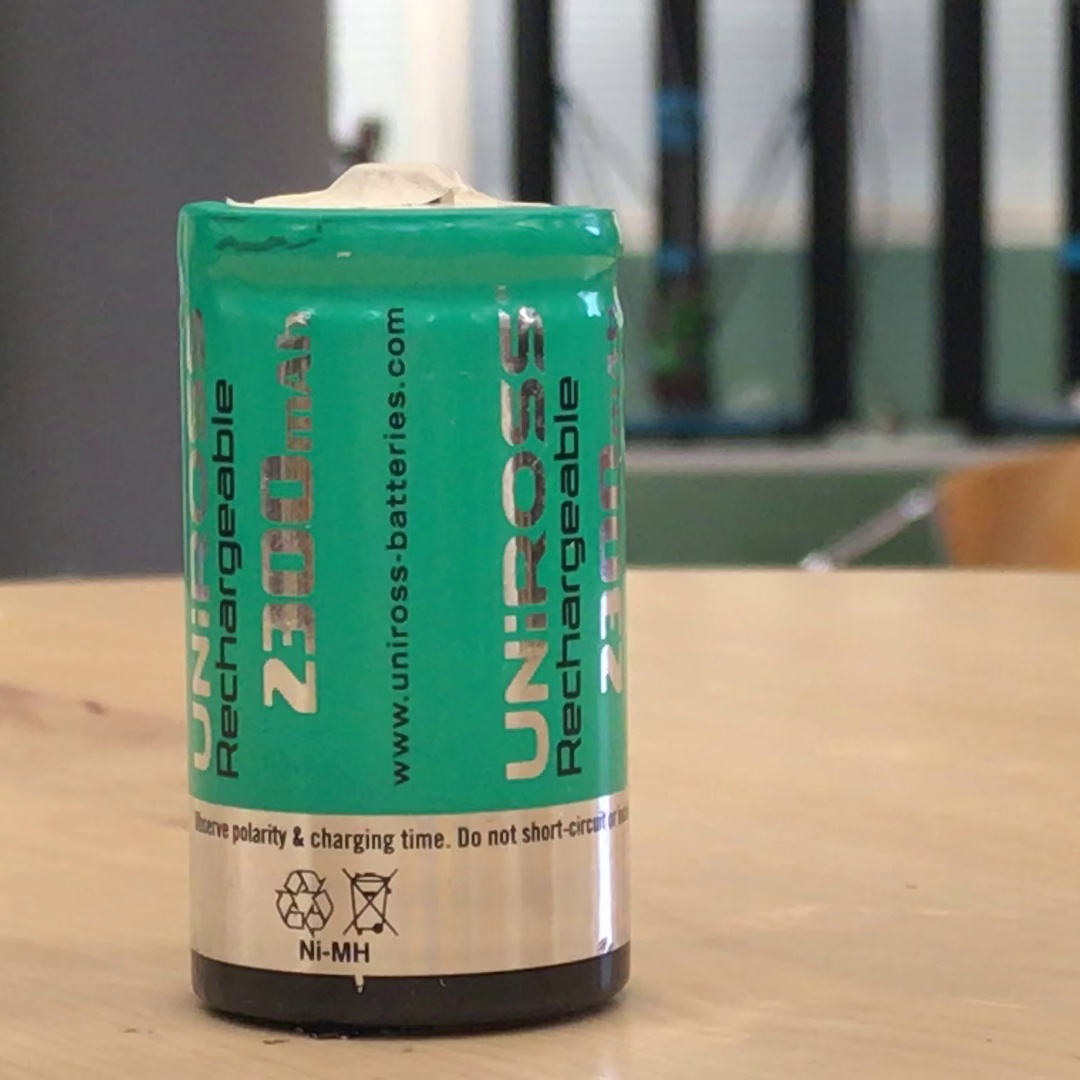keyword: (290, 932, 379, 971)
